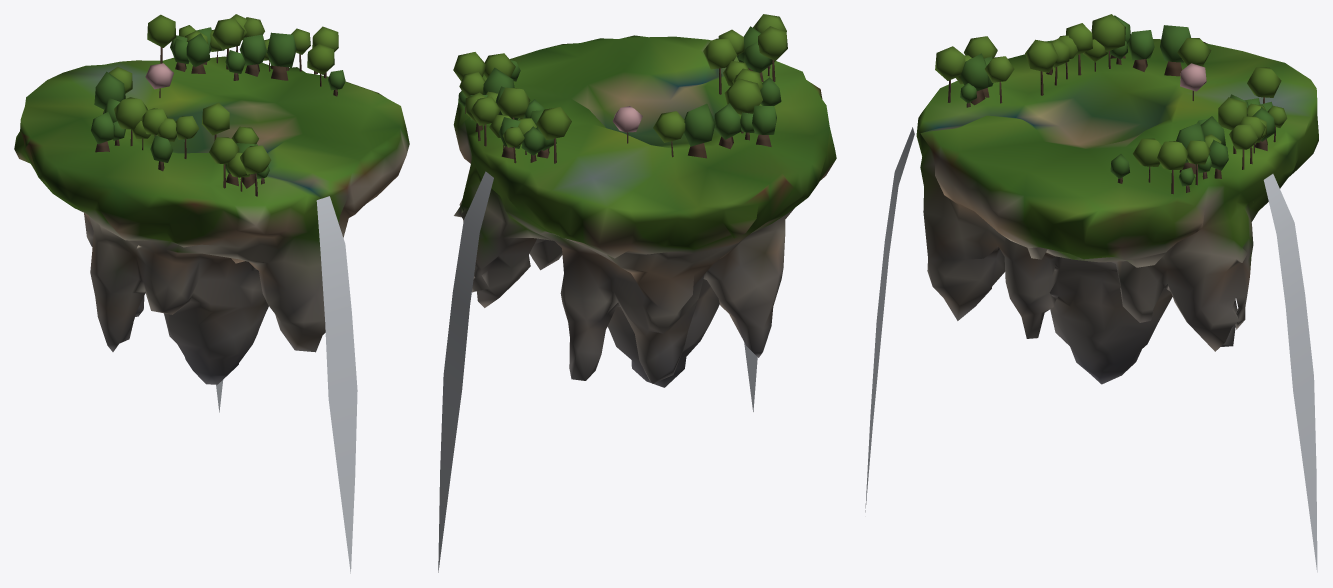
File: island-lake-lod2.glb
The picture shows the model from 3 angles, left to right: view 1: azimuth 30°, elevation 25°; view 2: azimuth 150°, elevation 25°; view 3: azimuth 270°, elevation 25°; orthographic projection. The views are drawn at different scales.
Parts seen in each view (by area): view 1: Silhouette; view 2: Silhouette; view 3: Silhouette.
Boxes of the visible parts, x1,y1,x2,y2 form: Silhouette: [14, 14, 409, 573]; Silhouette: [438, 14, 836, 572]; Silhouette: [865, 14, 1318, 572].
Size of the model in its own units: 88.5 by 110 by 97.91.
